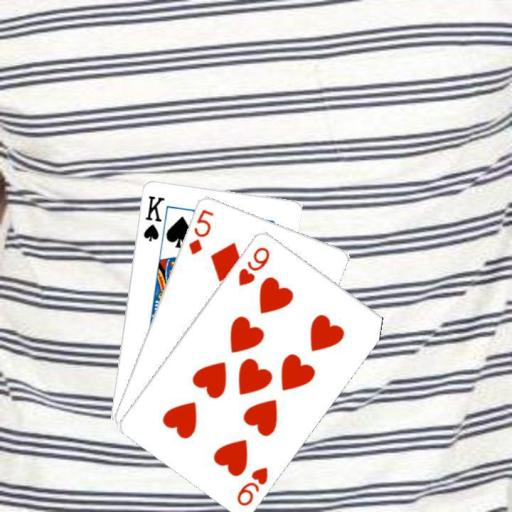5D: (185, 206, 215, 256)
9H: (235, 243, 272, 287), (233, 463, 270, 507)
KS: (139, 192, 166, 242)
